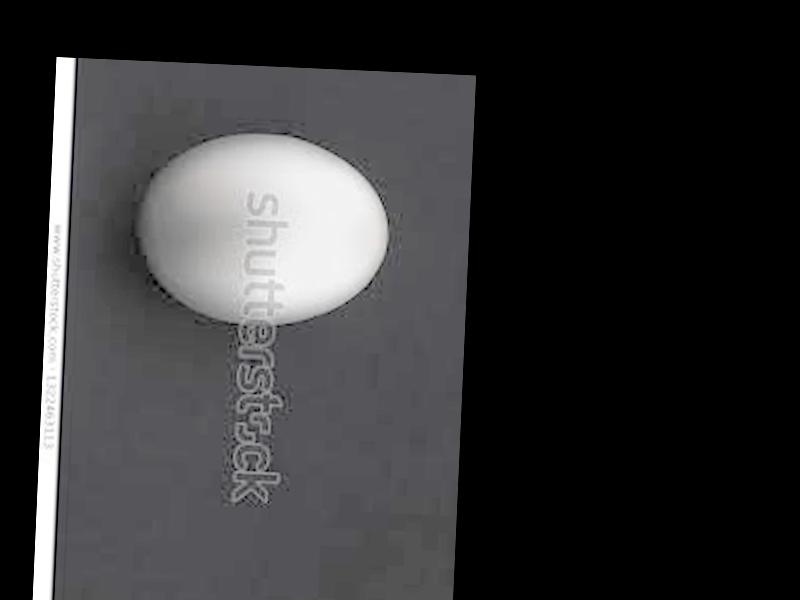Eggs: (137, 127, 394, 325)
